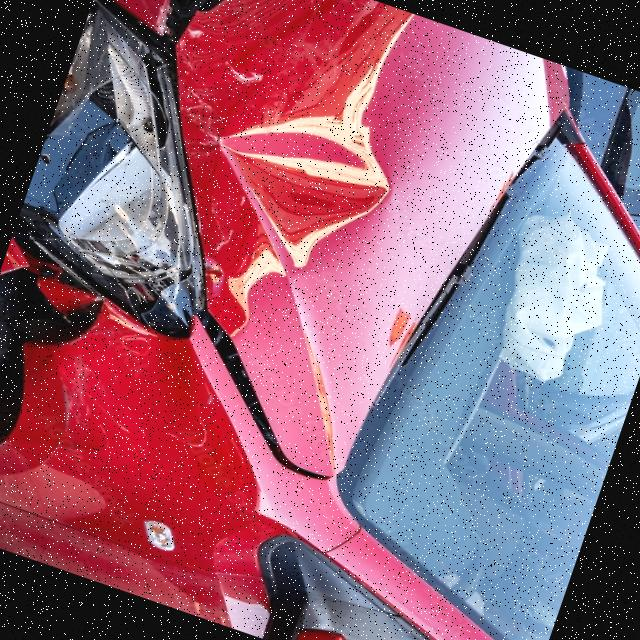Dent: (162, 9, 430, 366)
